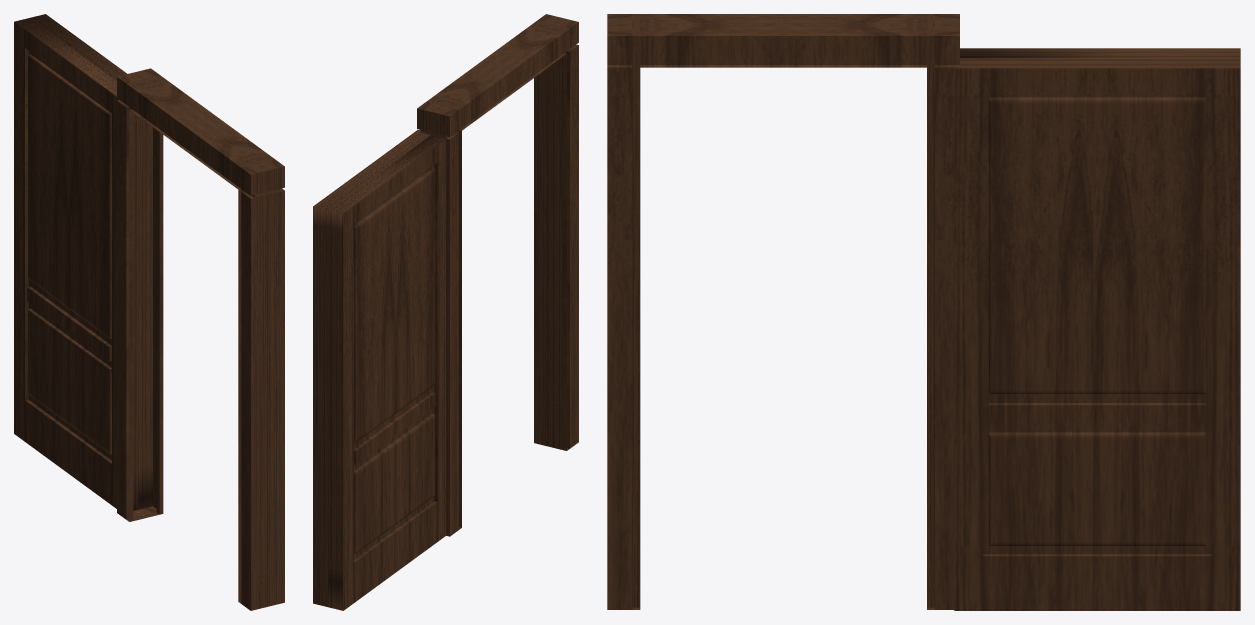
The model's file is porta 1.fbx.
3 renders of one model, left to right at view 1: azimuth 30°, elevation 25°; view 2: azimuth 150°, elevation 25°; view 3: azimuth 270°, elevation 25°, orthographic. The views are drawn at different scales.
Parts seen in each view (by area): view 1: Porta, PortaCornice; view 2: Porta, PortaCornice; view 3: Porta, PortaCornice.
Part boxes in pixels (<box>): Porta: <box>14,14,152,510</box>; PortaCornice: <box>117,68,284,610</box>; Porta: <box>313,130,445,610</box>; PortaCornice: <box>417,14,578,536</box>; Porta: <box>954,48,1240,610</box>; PortaCornice: <box>607,14,959,609</box>.
Bounding box in the file's own units: 17.21 × 202 × 202.
